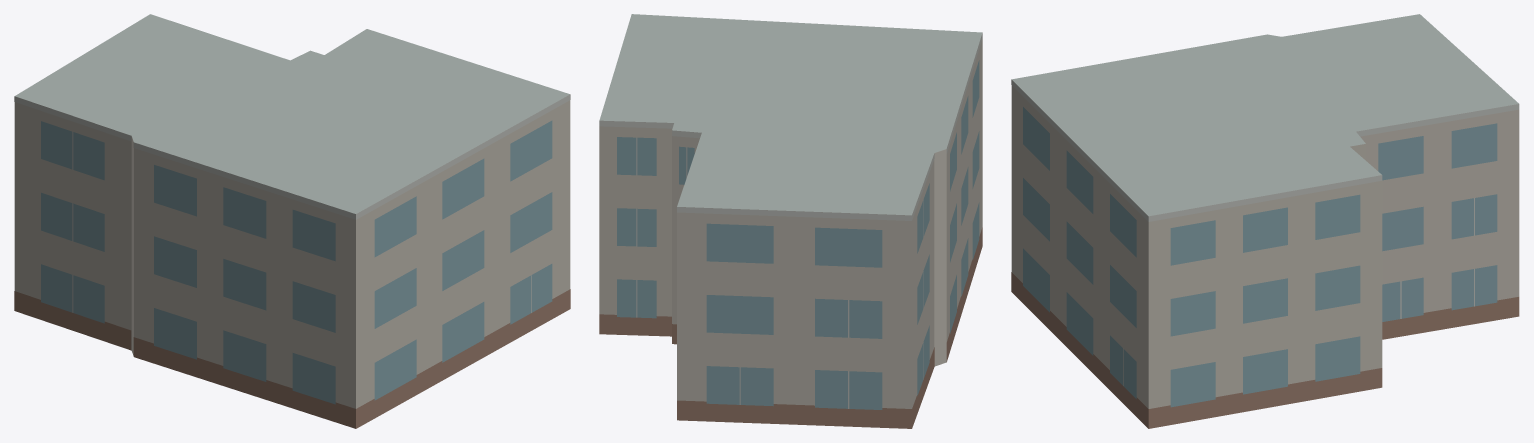
Rendered from survey-upis-32762626.glb.
3 renders of one model, left to right at view 1: azimuth 30°, elevation 25°; view 2: azimuth 150°, elevation 25°; view 3: azimuth 270°, elevation 25°, orthographic.
Parts seen in each view (by area): view 1: survey-upis-32762626.tmp; view 2: survey-upis-32762626.tmp; view 3: survey-upis-32762626.tmp.
Boxes of the visible parts, x1,y1,x2,y2 form: survey-upis-32762626.tmp: (14,14,570,428); survey-upis-32762626.tmp: (599,14,982,428); survey-upis-32762626.tmp: (1011,14,1519,428).
Size of the model in its own units: 18.69 by 9.15 by 19.82.
